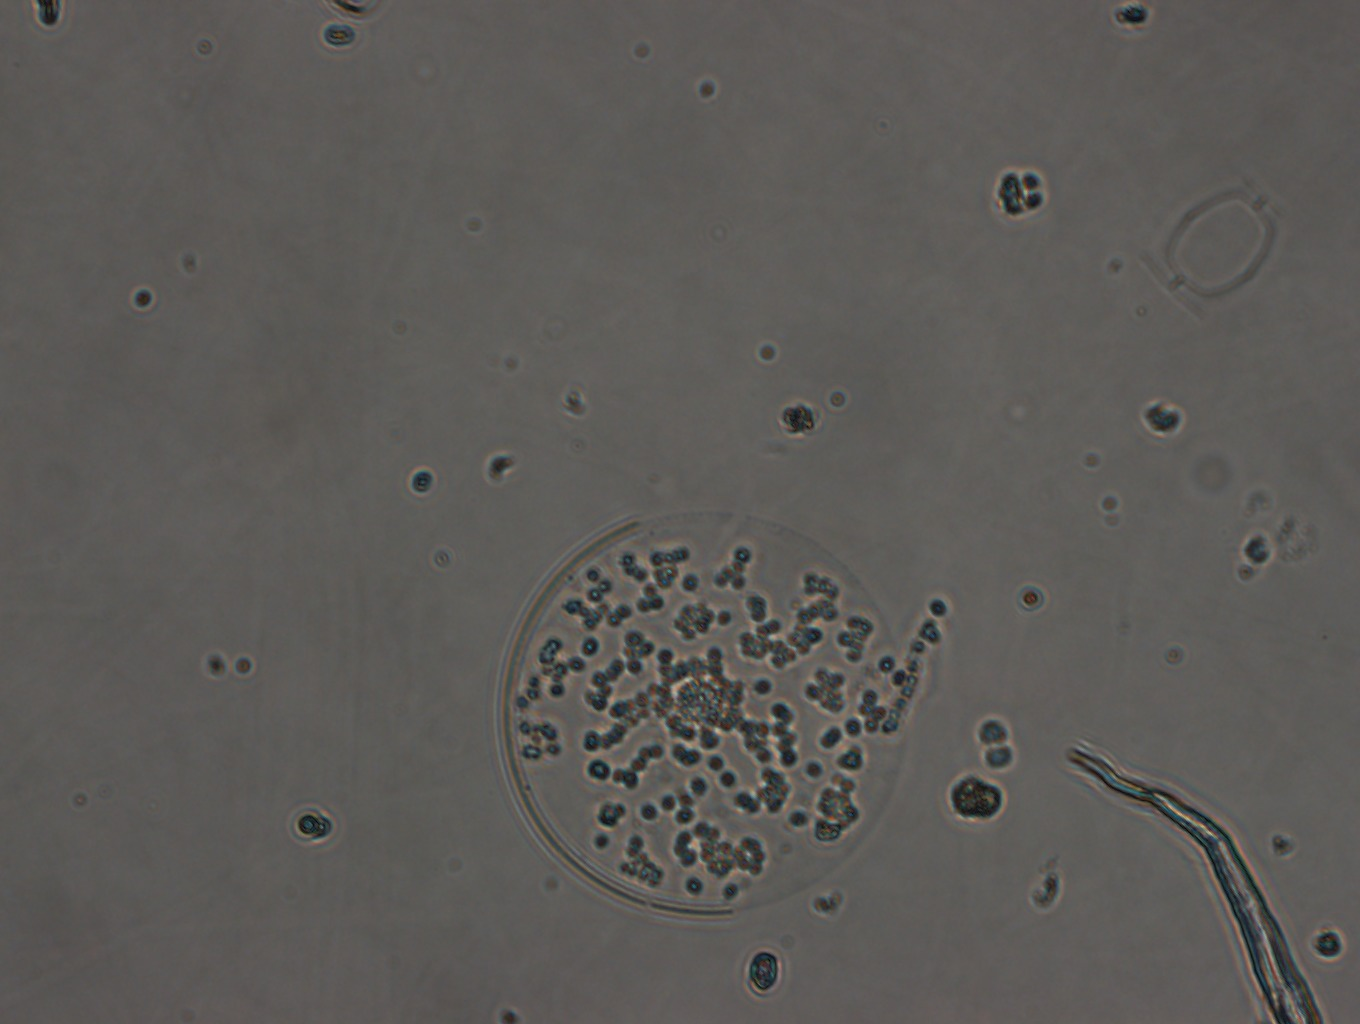coscinodiscus: (488, 515, 929, 918)
